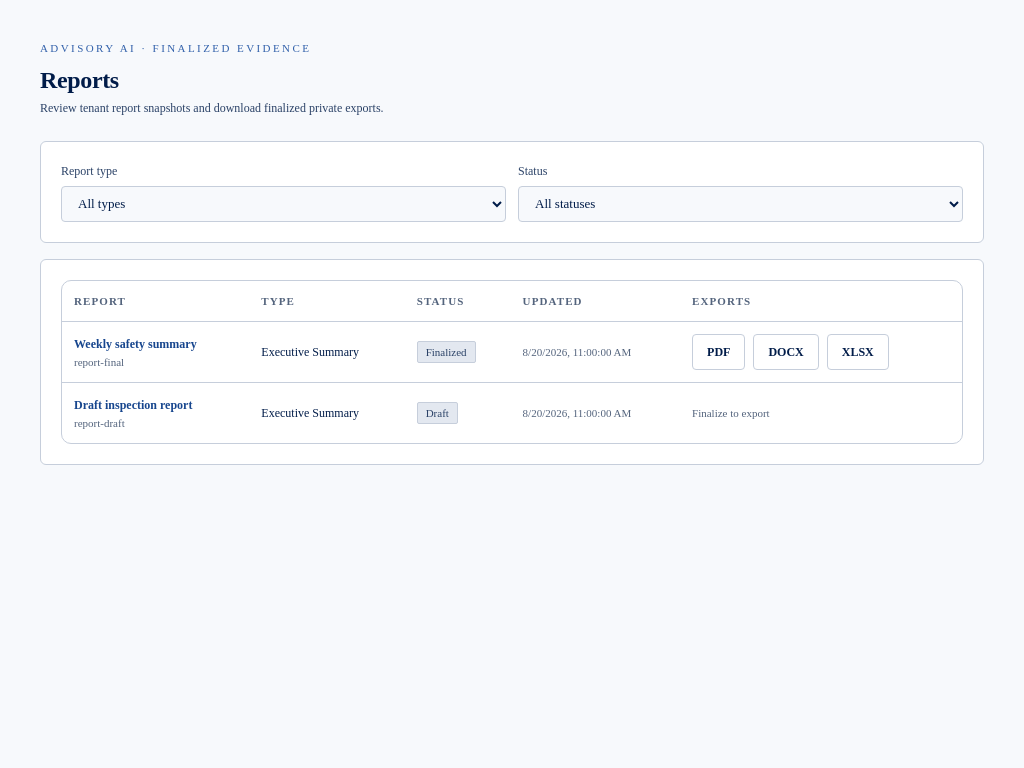
it: reports page › requests a fresh private export and starts the signed download
Click the button with aria-label "Export Weekly safety summary as PDF" at {"x": 719, "y": 352}, box [692, 334, 745, 370]
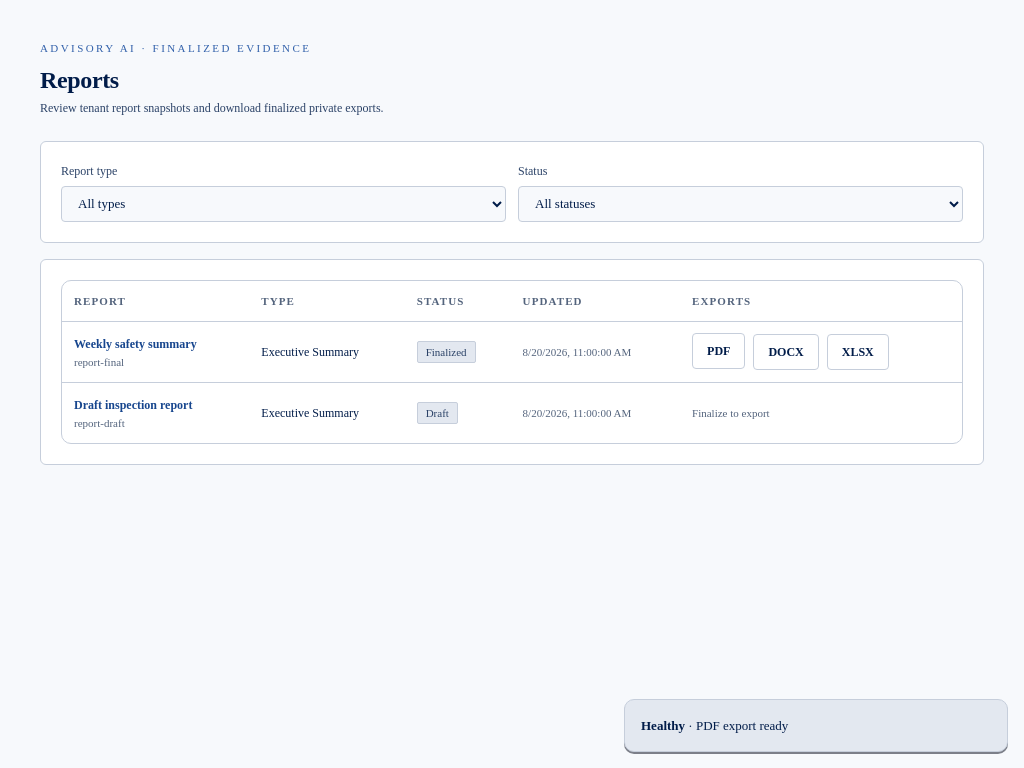
Expected: the text "healthy · PDF export ready" is shown, [624, 698, 1008, 752]
